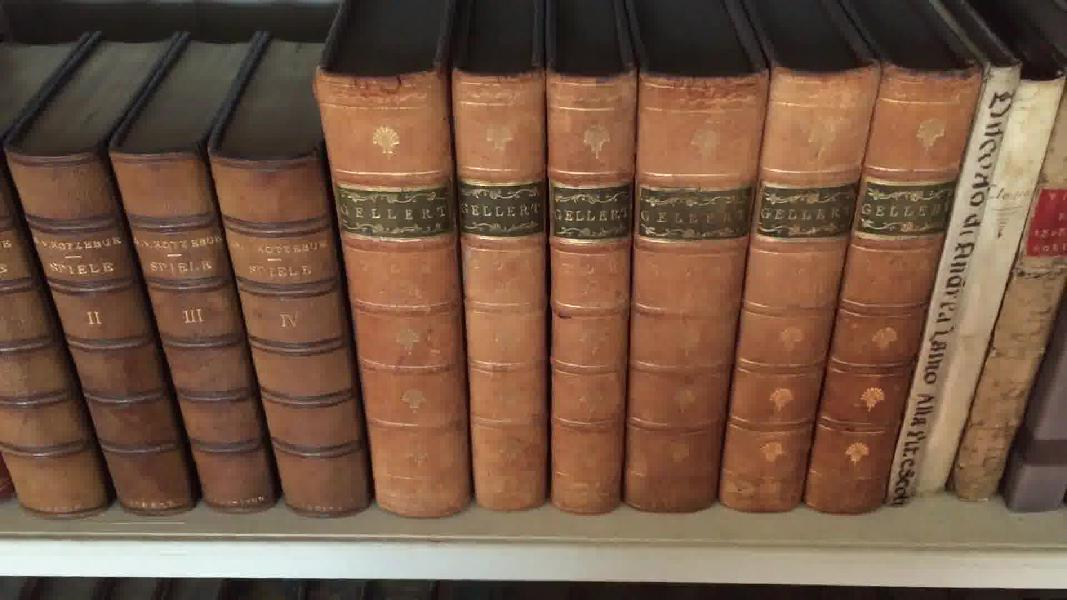Aa6-18_23: (311, 47, 971, 521)
Aa6-24: (883, 61, 1023, 519)
Aa6-25: (913, 44, 1067, 537)
